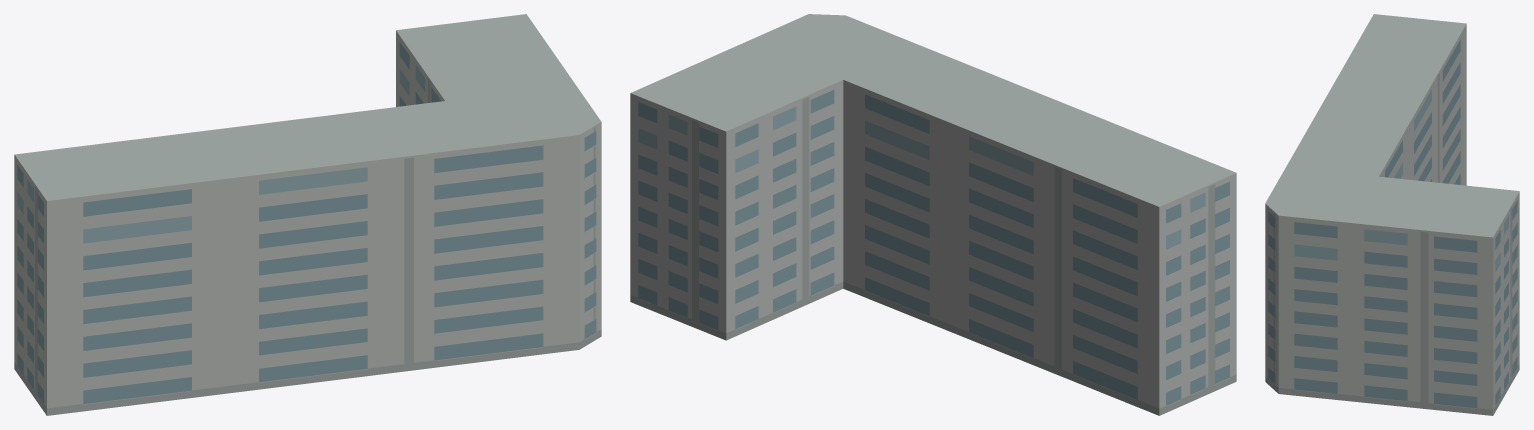
File: residential-328cc467-ad48-4f95-b8bf-c53e23ce63b9.glb
3 views of the same model, side by side, from view 1: azimuth 30°, elevation 25°; view 2: azimuth 150°, elevation 25°; view 3: azimuth 270°, elevation 25° (orthographic). The views are drawn at different scales.
Parts seen in each view (by area): view 1: residential-328cc467-ad48-4f95-b8bf-c53e23ce63b9.tmp; view 2: residential-328cc467-ad48-4f95-b8bf-c53e23ce63b9.tmp; view 3: residential-328cc467-ad48-4f95-b8bf-c53e23ce63b9.tmp.
Part boxes in pixels (left/top/right/bottom): residential-328cc467-ad48-4f95-b8bf-c53e23ce63b9.tmp: left=14, top=14, right=601, bottom=415; residential-328cc467-ad48-4f95-b8bf-c53e23ce63b9.tmp: left=630, top=14, right=1236, bottom=415; residential-328cc467-ad48-4f95-b8bf-c53e23ce63b9.tmp: left=1265, top=14, right=1519, bottom=415.
Bounding box in the file's own units: 75.22 × 28 × 36.21.
